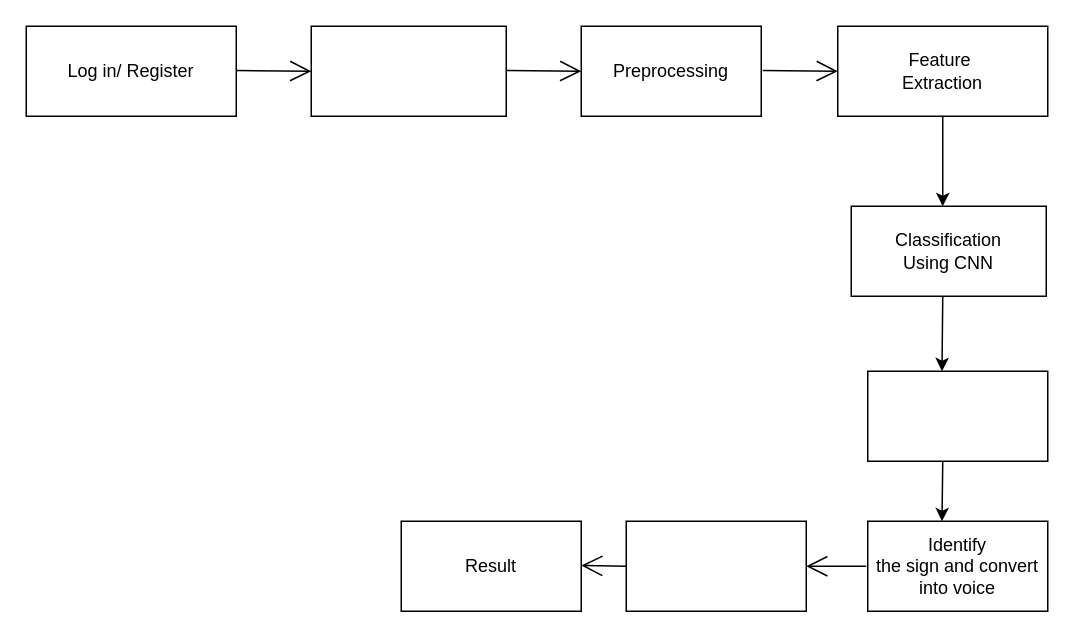
This 1074x638 diagram has some shape labels left out. Here are the shapes that lost their labels. From the top down, the centre of each, then its label:
At point 408,70: "Upload Dataset".
At point 957,415: "Model".
At point 715,565: "Start Camera".
